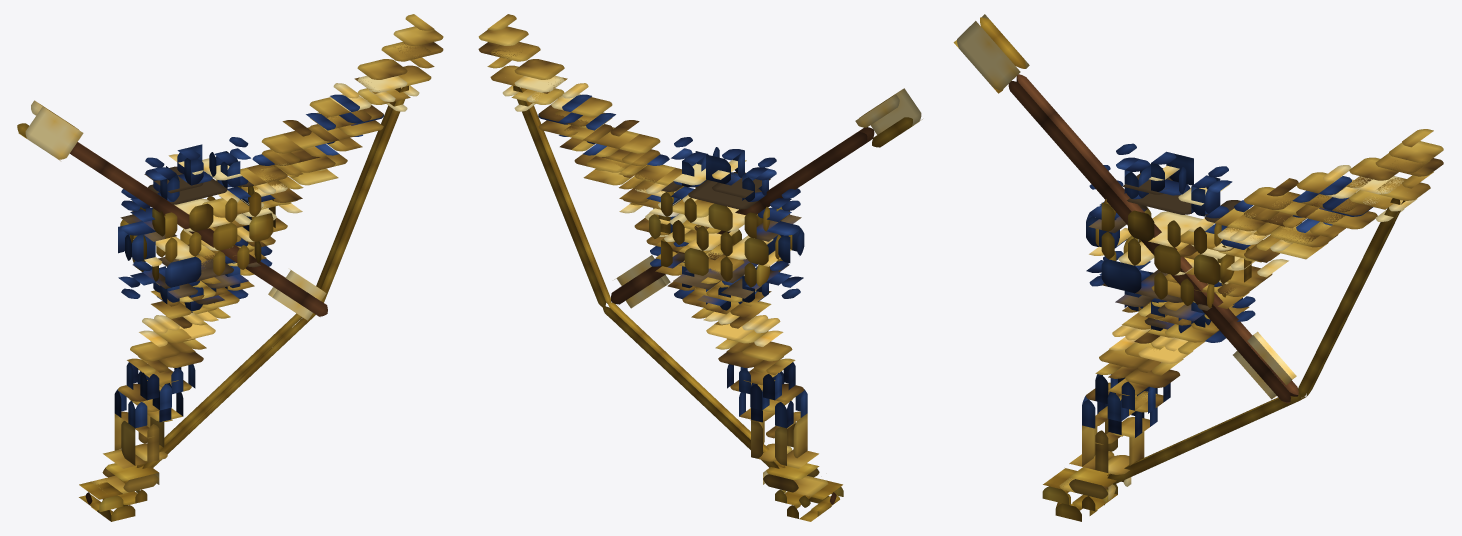
Rendered from horizon_bow_pulling_1.obj.
3 renders of one model, left to right at view 1: azimuth 30°, elevation 25°; view 2: azimuth 150°, elevation 25°; view 3: azimuth 330°, elevation 25°, orthographic. The views are drawn at different scales.
Parts seen in each view (by area): view 1: lit, fire; view 2: lit, fire; view 3: lit, fire.
Boxes of the visible parts, left/top/right/bottom form: lit: left=17, top=14, right=443, bottom=521; fire: left=118, top=137, right=326, bottom=320; lit: left=478, top=14, right=922, bottom=521; fire: left=614, top=137, right=804, bottom=310; lit: left=953, top=14, right=1443, bottom=521; fire: left=1086, top=143, right=1296, bottom=399.
Size of the model in its own units: 1.11 by 1.08 by 0.15.
